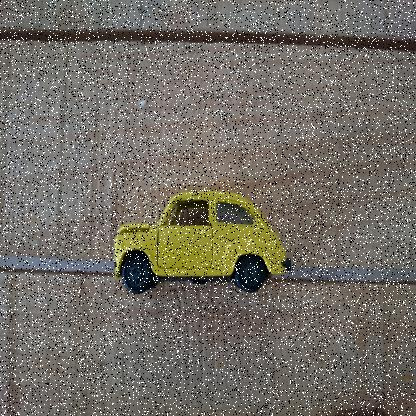Car: (114, 186, 291, 300)
